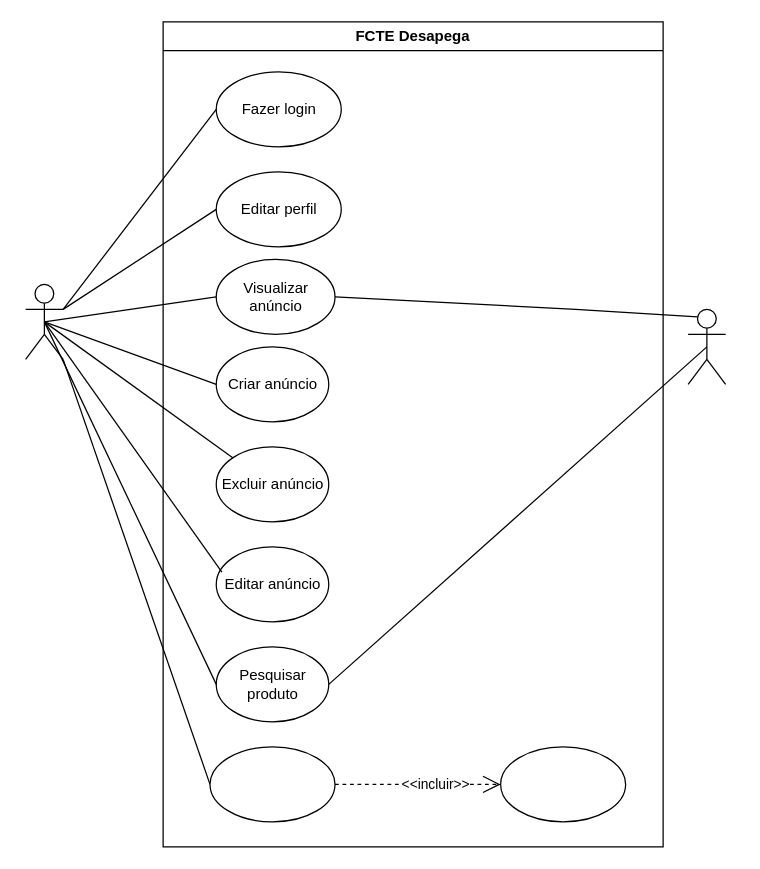
This 760x869 diagram has some shape labels left out. The shapes that lost their labels are listed below. From the top down, each one's box as (x1, y1, x2, y2) in pixels, then its label:
(24, 283, 63, 359): Cliente
(687, 308, 726, 384): Repassei
(209, 746, 335, 822): Realizar comprar
(499, 746, 626, 822): Receber confirmação de email
